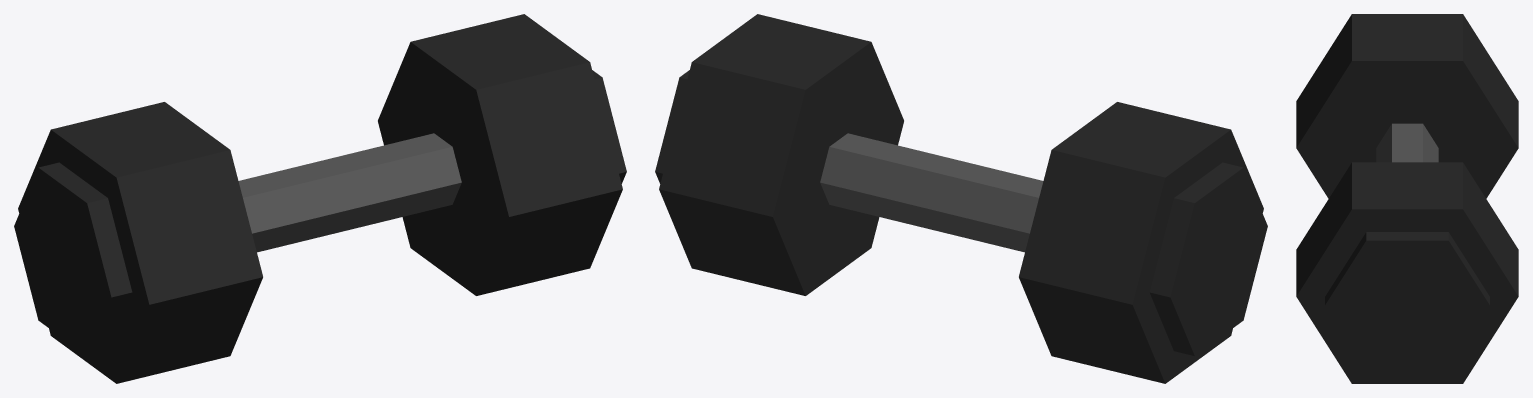
The model's file is Dumbell1.fbx.
3 renders of one model, left to right at view 1: azimuth 30°, elevation 25°; view 2: azimuth 150°, elevation 25°; view 3: azimuth 270°, elevation 25°, orthographic. The views are drawn at different scales.
Visible parts, largest first — view 1: Dumbell1; view 2: Dumbell1; view 3: Dumbell1.
Part boxes in pixels (<box>): Dumbell1: <box>14,14,626,383</box>; Dumbell1: <box>655,14,1267,383</box>; Dumbell1: <box>1296,14,1518,383</box>.
Size of the model in its own units: 0.6368 by 0.2436 by 0.2813.
